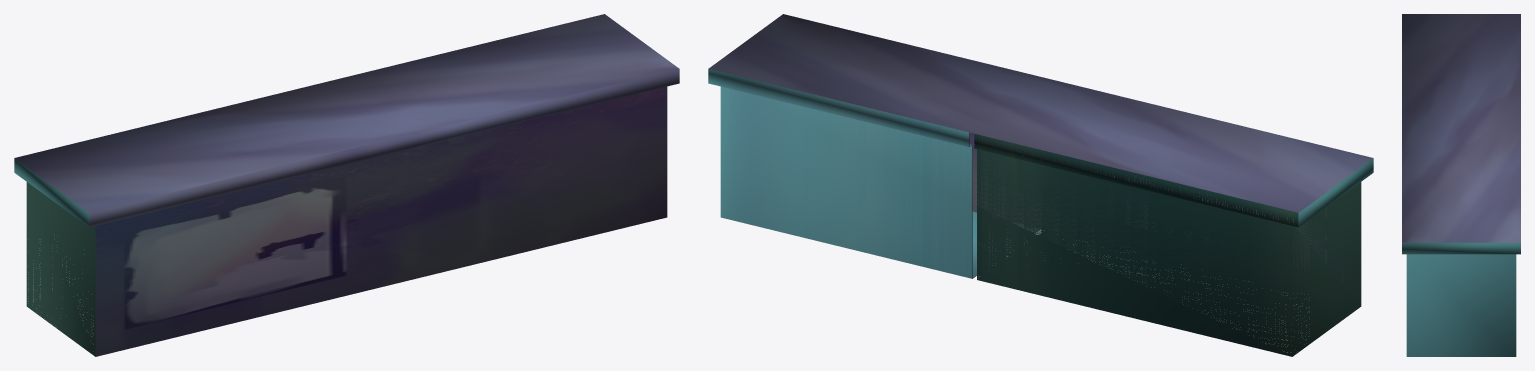
The model's file is Balcao.fbx.
3 renders of one model, left to right at view 1: azimuth 30°, elevation 25°; view 2: azimuth 150°, elevation 25°; view 3: azimuth 270°, elevation 25°, orthographic. The views are drawn at different scales.
Visible parts, largest first — view 1: Balcao; view 2: Balcao; view 3: Balcao.
Boxes of the visible parts, left/top/right/bottom form: Balcao: left=14, top=14, right=679, bottom=356; Balcao: left=708, top=14, right=1373, bottom=356; Balcao: left=1402, top=14, right=1520, bottom=356.
Size of the model in its own units: 390 by 85.54 by 93.67.
